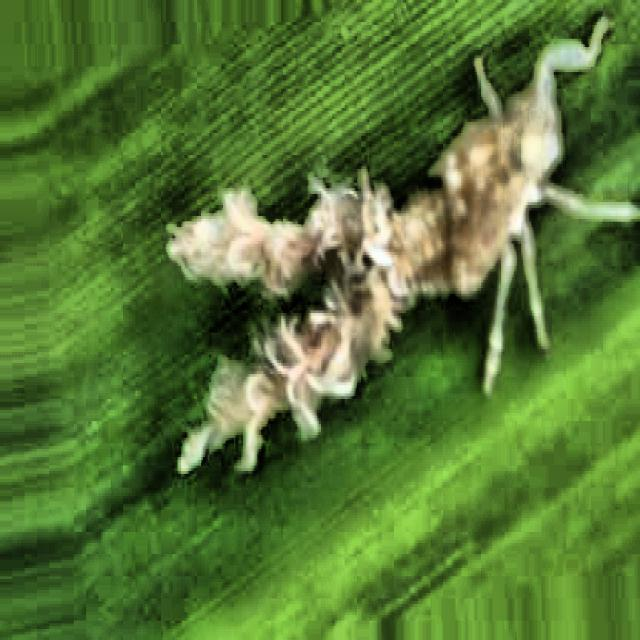Pyrilla-perpusilla: (141, 28, 640, 485)
